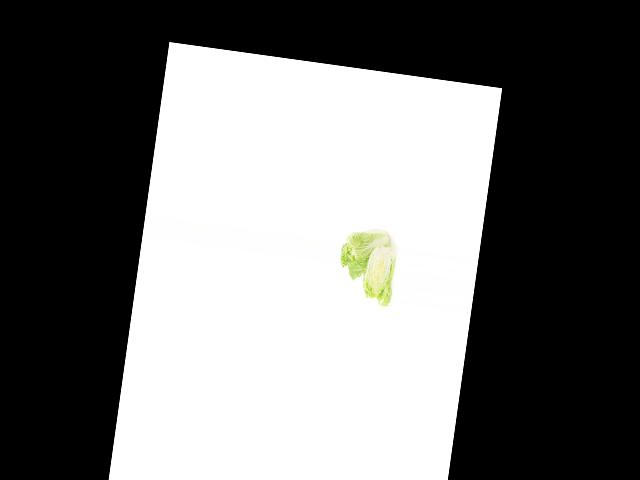lettuce: (334, 222, 395, 288)
